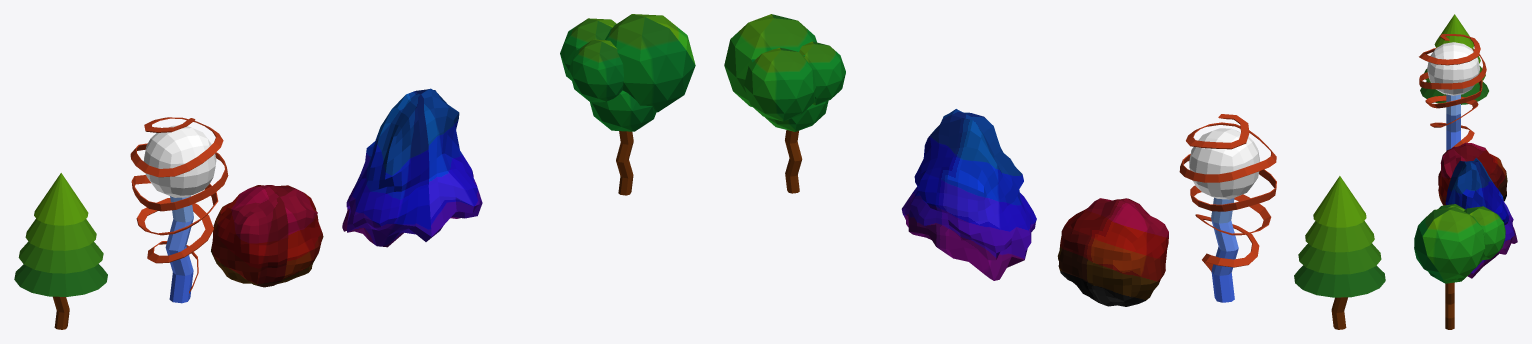
Rendered from PropsMesh.fbx.
3 views of the same model, side by side, from view 1: azimuth 30°, elevation 25°; view 2: azimuth 150°, elevation 25°; view 3: azimuth 270°, elevation 25° (orthographic). The views are drawn at different scales.
Parts seen in each view (by area): view 1: Cube.010, Cube.011, Plane, Cube.008, Cube.007; view 2: Cube.010, Cube.011, Cube.008, Plane, Cube.007; view 3: Cube.011, Plane, Cube.010, Cube.008, Cube.007.
Part boxes in pixels (x1,y1,x2,y2): Cube.010: [342, 88, 482, 247]; Cube.011: [560, 14, 695, 195]; Plane: [130, 117, 228, 303]; Cube.008: [211, 185, 323, 287]; Cube.007: [14, 173, 107, 329]; Cube.010: [901, 109, 1036, 280]; Cube.011: [724, 14, 845, 193]; Cube.008: [1057, 198, 1168, 306]; Plane: [1179, 114, 1276, 302]; Cube.007: [1294, 176, 1385, 329]; Cube.011: [1414, 204, 1505, 329]; Plane: [1419, 34, 1486, 150]; Cube.010: [1445, 158, 1517, 278]; Cube.008: [1438, 142, 1507, 205]; Cube.007: [1420, 14, 1488, 104].
Size of the model in its own units: 1145 by 324 by 211.
